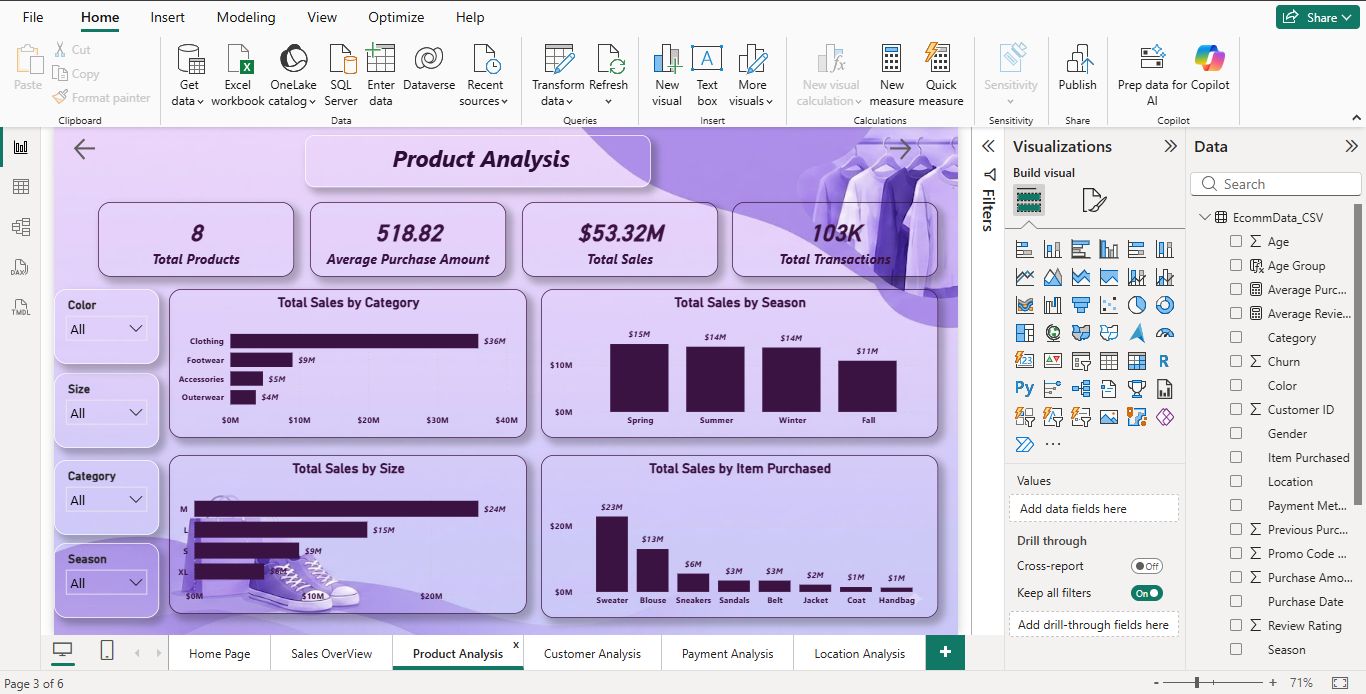

This screenshot's page, from the dashboard's own definition file:
{"tool":"powerbi","page":{"name":"Product Analysis","canvas":[1280,720],"ordinal":2},"visuals":[{"type":"card","fields":{"Values":["EcommData_CSV.Total Sales"]},"box":[663.3,106.3,277.8,106.3],"z":0},{"type":"textbox","box":[355.7,11.3,490.4,73.7],"z":1000},{"type":"card","fields":{"Values":["EcommData_CSV.Total Transactions"]},"box":[960.9,106.3,292,106.3],"z":2000},{"type":"clusteredColumnChart","title":"Total Sales by Item Purchased","fields":{"Category":["EcommData_CSV.Item Purchased"],"Y":["EcommData_CSV.Total Sales"]},"box":[690.2,464.9,562.7,231],"z":3000},{"type":"slicer","title":"Total Sales by Item Purchased","fields":{"Values":["EcommData_CSV.Size"]},"box":[0,348.7,148.8,106.3],"z":4000},{"type":"slicer","title":"Total Sales by Item Purchased","fields":{"Values":["EcommData_CSV.Category"]},"box":[0,472,148.8,106.3],"z":5000},{"type":"card","fields":{"Values":["EcommData_CSV.Average Purchase Amount"]},"box":[362.8,106.3,277.8,106.3],"z":6000},{"type":"clusteredBarChart","title":"Total Sales by Category","fields":{"Category":["EcommData_CSV.Category"],"Y":["EcommData_CSV.Total Sales"]},"box":[163,229.6,507.4,211.2],"z":7000},{"type":"clusteredBarChart","title":"Total Sales by Size","fields":{"Y":["EcommData_CSV.Total Sales"],"Category":["EcommData_CSV.Size"]},"box":[163,464.9,507.4,225.4],"z":8000},{"type":"clusteredColumnChart","title":"Total Sales by  Season","fields":{"Category":["EcommData_CSV.Season"],"Y":["EcommData_CSV.Total Sales"]},"box":[690.2,229.6,562.7,211.2],"z":9000},{"type":"slicer","title":"Total Sales by Item Purchased","fields":{"Values":["EcommData_CSV.Season"]},"box":[0,589.6,148.8,106.3],"z":10000},{"type":"slicer","title":"Total Sales by Item Purchased","fields":{"Values":["EcommData_CSV.Color"]},"box":[0,229.6,148.8,106.3],"z":11000},{"type":"card","fields":{"Values":["EcommData_CSV.Total Products"]},"box":[62.4,106.3,277.8,106.3],"z":12000},{"type":"actionButton","box":[24.1,11.3,100,40],"z":13000},{"type":"actionButton","box":[1179.2,11.3,100,40],"z":14000}]}

Visuals, with their boxes on the page's 1280x720 design canvas (x1, y1, x2, y2). These are canvas units, not pixel positions in the 1366x694 screenshot, which may show the page scaled, cropped or inside an application window:
card - EcommData_CSV.Total Sales: l=663, t=106, r=941, b=213
textbox: l=356, t=11, r=846, b=85
card - EcommData_CSV.Total Transactions: l=961, t=106, r=1253, b=213
"Total Sales by Item Purchased" clusteredColumnChart: l=690, t=465, r=1253, b=696
"Total Sales by Item Purchased" slicer: l=0, t=349, r=149, b=455
"Total Sales by Item Purchased" slicer: l=0, t=472, r=149, b=578
card - EcommData_CSV.Average Purchase Amount: l=363, t=106, r=641, b=213
"Total Sales by Category" clusteredBarChart: l=163, t=230, r=670, b=441
"Total Sales by Size" clusteredBarChart: l=163, t=465, r=670, b=690
"Total Sales by  Season" clusteredColumnChart: l=690, t=230, r=1253, b=441
"Total Sales by Item Purchased" slicer: l=0, t=590, r=149, b=696
"Total Sales by Item Purchased" slicer: l=0, t=230, r=149, b=336
card - EcommData_CSV.Total Products: l=62, t=106, r=340, b=213
actionButton: l=24, t=11, r=124, b=51
actionButton: l=1179, t=11, r=1279, b=51
